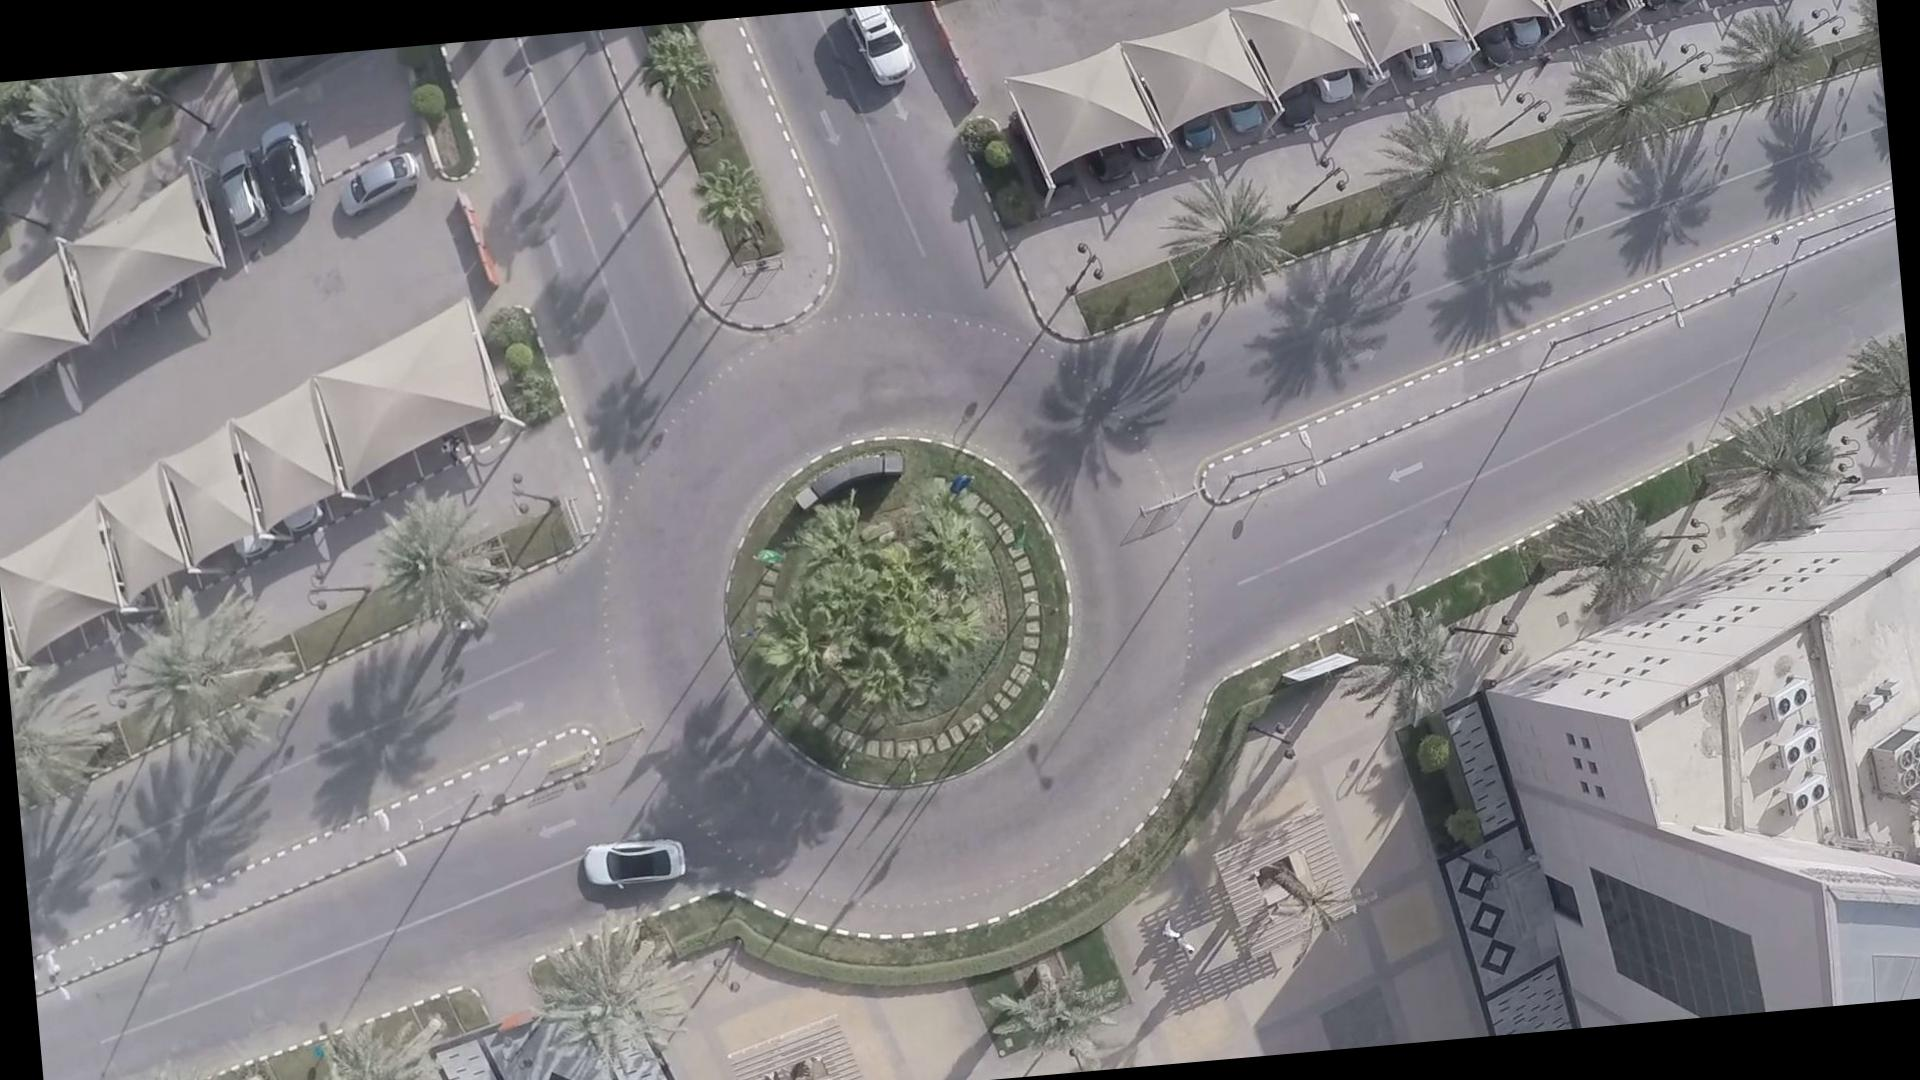vehicle: (578, 836, 687, 892)
